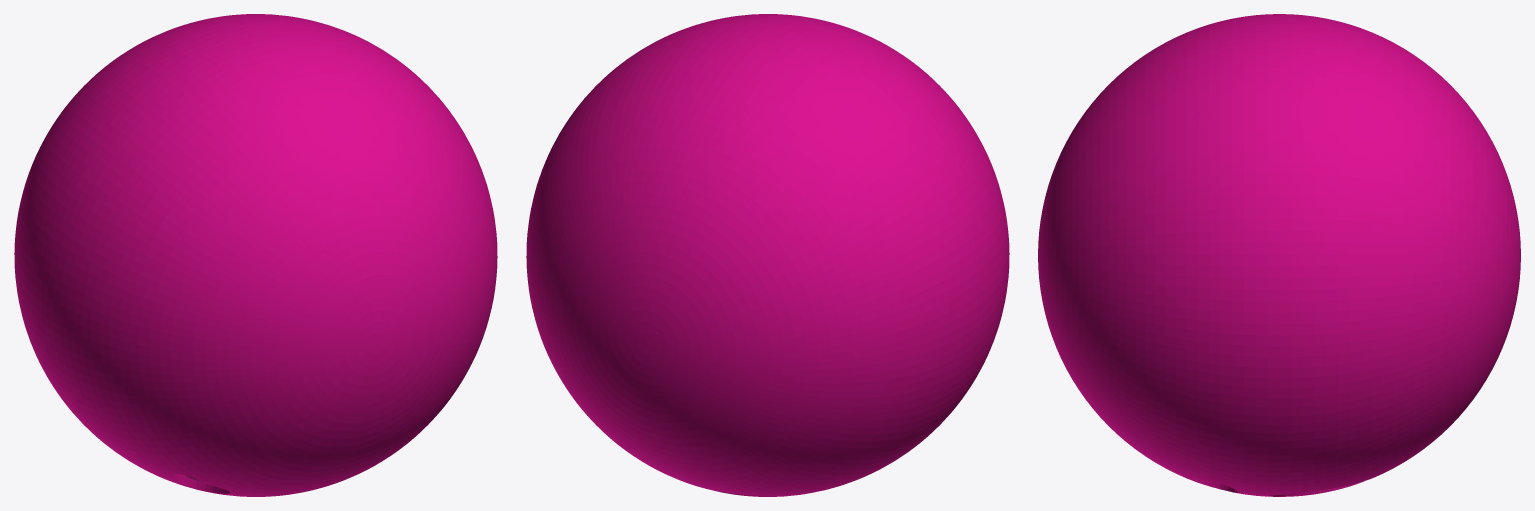
The model's file is tinker.obj.
3 views of the same model, side by side, from view 1: azimuth 30°, elevation 25°; view 2: azimuth 150°, elevation 25°; view 3: azimuth 270°, elevation 25° (orthographic).
Visible parts, largest first — view 1: obj_0; view 2: obj_0; view 3: obj_0.
Boxes of the visible parts, x1,y1,x2,y2 form: obj_0: (14, 14, 497, 496); obj_0: (526, 14, 1009, 496); obj_0: (1038, 14, 1520, 496).
Bounding box in the file's own units: 20 × 20 × 20.
